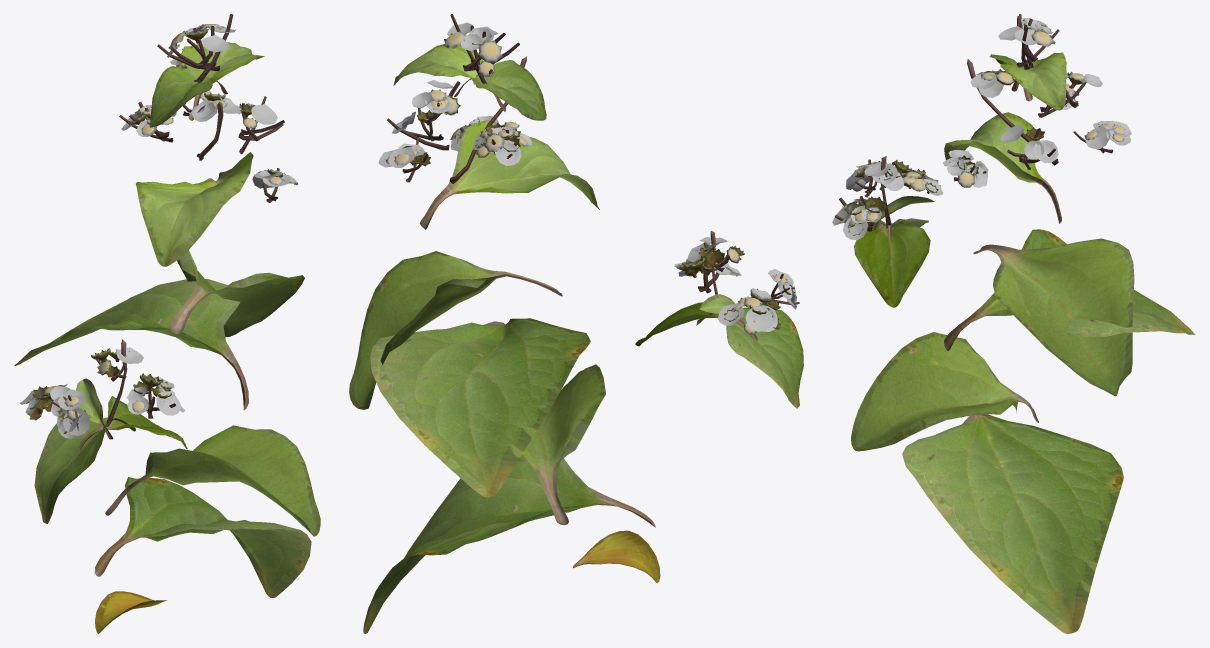
The picture shows the model from 3 angles, left to right: view 1: azimuth 30°, elevation 25°; view 2: azimuth 150°, elevation 25°; view 3: azimuth 270°, elevation 25°; orthographic projection. The views are drawn at different scales.
Parts seen in each view (by area): view 1: shrub_01_a; view 2: shrub_01_a; view 3: shrub_01_a.
Boxes of the visible parts, x1=… form: shrub_01_a: x1=14, y1=14, x2=320, y2=633; shrub_01_a: x1=349, y1=14, x2=803, y2=633; shrub_01_a: x1=832, y1=14, x2=1195, y2=633.
Bounding box in the file's own units: 0.2519 × 0.4347 × 0.2481.
1 material, 1 textured.
